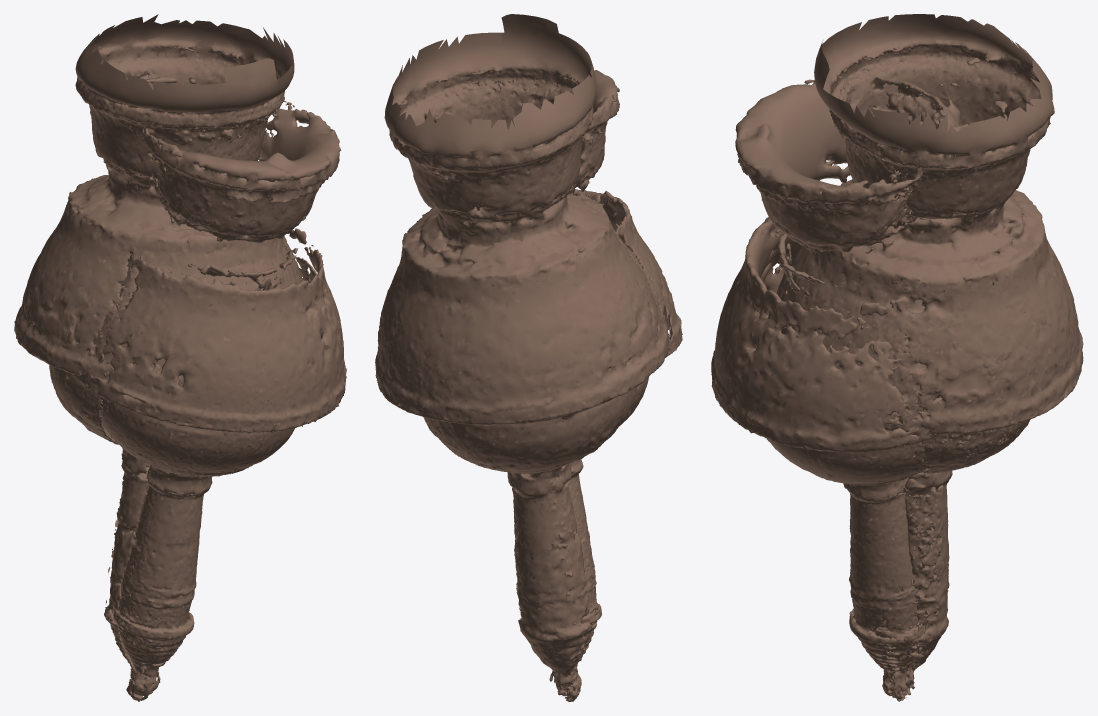
File: Thai_Libation_Vessel_V4_BEST_DEFENSIBLE_TRIM5_FINAL.glb
3 views of the same model, side by side, from view 1: azimuth 30°, elevation 25°; view 2: azimuth 150°, elevation 25°; view 3: azimuth 270°, elevation 25° (orthographic). The views are drawn at different scales.
Parts seen in each view (by area): view 1: SM_V4_Vessel_LOD0; view 2: SM_V4_Vessel_LOD0; view 3: SM_V4_Vessel_LOD0.
Boxes of the visible parts, x1=… form: SM_V4_Vessel_LOD0: x1=14, y1=14, x2=346, y2=701; SM_V4_Vessel_LOD0: x1=375, y1=14, x2=682, y2=701; SM_V4_Vessel_LOD0: x1=711, y1=14, x2=1083, y2=701.
Bounding box in the file's own units: 0.9205 × 2.15 × 1.05.
Materials: 1 (1 with a texture image).
